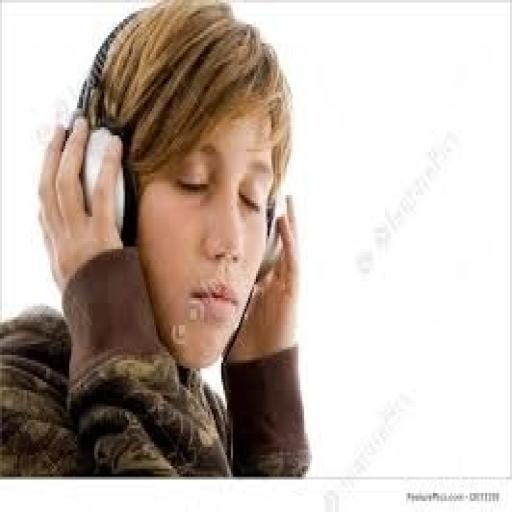listening_to_music: (0, 0, 313, 479)
